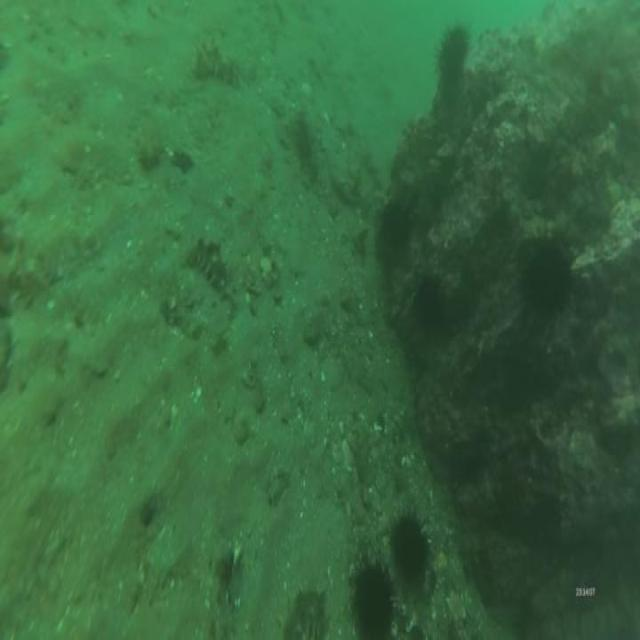echinus: (520, 225, 573, 322), (382, 506, 436, 588), (349, 552, 396, 638), (374, 185, 419, 256), (411, 268, 452, 336), (434, 18, 470, 82)
holothurian: (181, 237, 233, 299), (281, 582, 328, 638), (195, 36, 239, 90), (134, 112, 166, 177)
